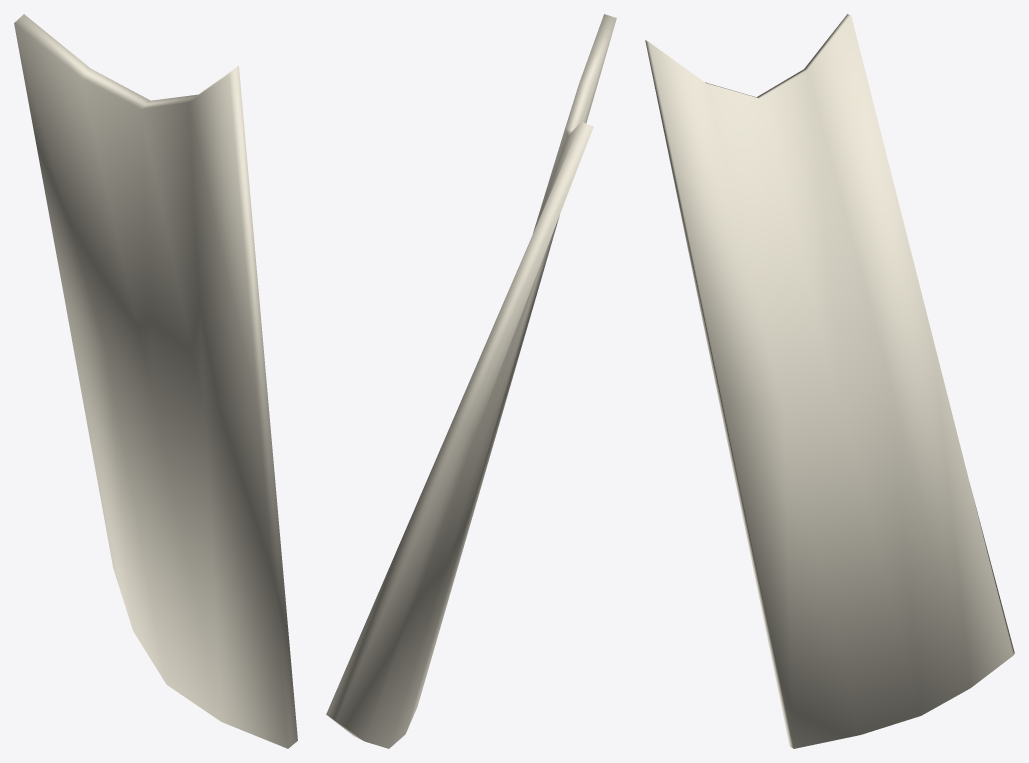
3 views of the same model, side by side, from view 1: azimuth 30°, elevation 25°; view 2: azimuth 150°, elevation 25°; view 3: azimuth 270°, elevation 25° (orthographic). The views are drawn at different scales.
Parts seen in each view (by area): view 1: ZA_fcf6a6c465fcbf59; view 2: ZA_fcf6a6c465fcbf59; view 3: ZA_fcf6a6c465fcbf59.
Part boxes in pixels (left/top/right/bottom): ZA_fcf6a6c465fcbf59: left=14, top=14, right=297, bottom=748; ZA_fcf6a6c465fcbf59: left=326, top=14, right=616, bottom=748; ZA_fcf6a6c465fcbf59: left=645, top=14, right=1014, bottom=748.
Size of the model in its own units: 0.00932 by 0.0275 by 0.0142.
